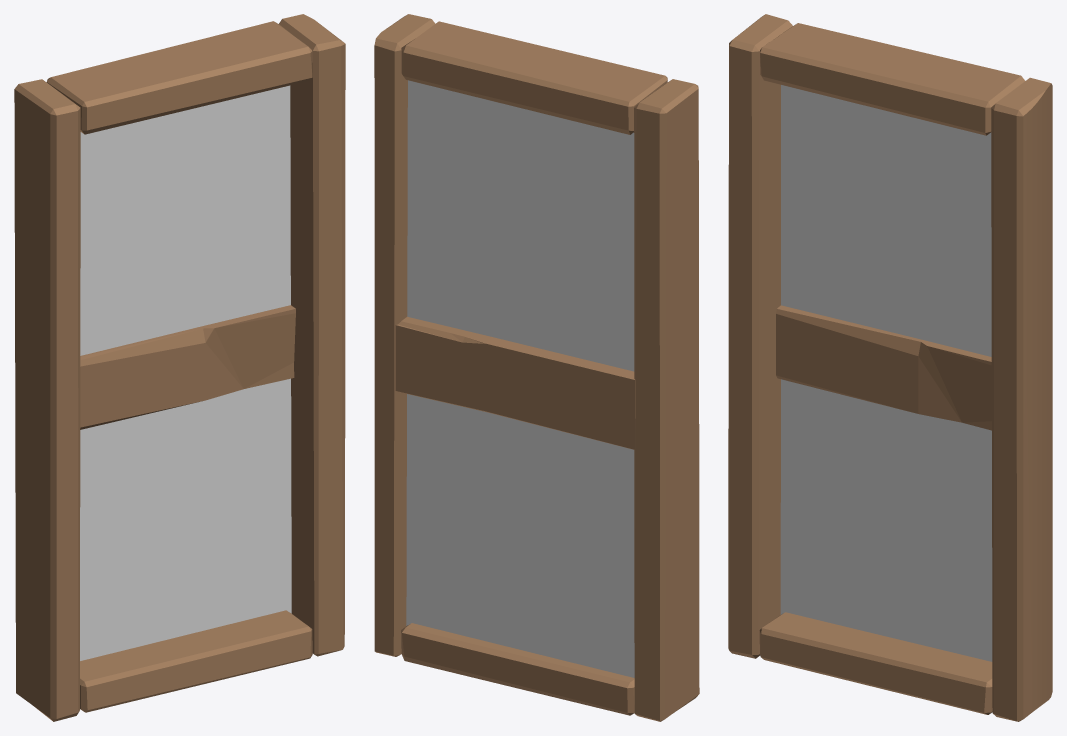
Rendered from PKX_Window_Small_Sash_R.fbx.
The picture shows the model from 3 angles, left to right: view 1: azimuth 30°, elevation 25°; view 2: azimuth 150°, elevation 25°; view 3: azimuth 330°, elevation 25°; orthographic projection.
Visible parts, largest first — view 1: PKX_Window_Small_Sash_R; view 2: PKX_Window_Small_Sash_R; view 3: PKX_Window_Small_Sash_R.
Boxes of the visible parts, x1,y1,x2,y2 form: PKX_Window_Small_Sash_R: [14, 14, 345, 721]; PKX_Window_Small_Sash_R: [374, 14, 699, 721]; PKX_Window_Small_Sash_R: [728, 14, 1052, 721].
Bounding box in the file's own units: 28.38 × 56.23 × 6.65.
